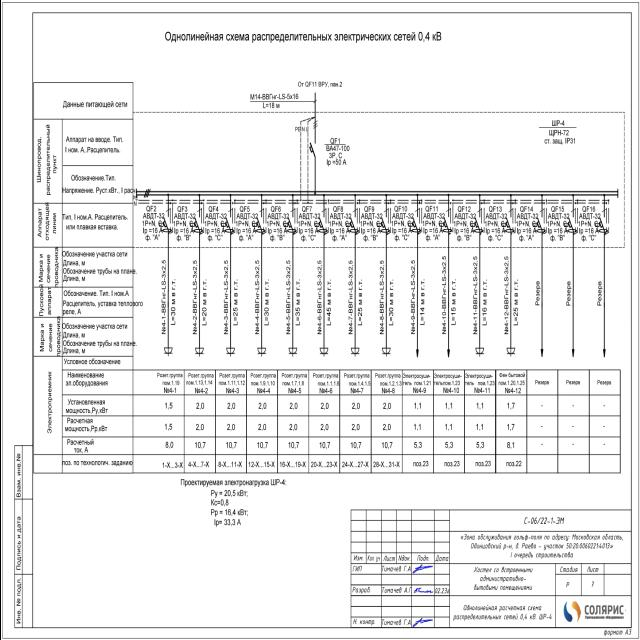-: (389, 212, 414, 245), (296, 212, 321, 244), (140, 212, 164, 245), (204, 212, 228, 245), (327, 212, 351, 245), (484, 212, 508, 245), (266, 212, 290, 245), (420, 212, 444, 244), (546, 212, 570, 244), (452, 213, 476, 245), (576, 212, 600, 244), (171, 213, 195, 245), (234, 213, 258, 245), (358, 212, 382, 244), (514, 212, 538, 244), (542, 128, 576, 146), (324, 145, 348, 167)
QF: (308, 138, 316, 158)
QFD: (469, 206, 484, 234), (314, 206, 328, 234), (220, 208, 234, 235), (500, 207, 514, 234), (532, 206, 546, 233), (562, 207, 576, 234), (282, 209, 296, 236), (252, 207, 266, 234), (407, 207, 421, 234), (158, 207, 172, 234), (438, 206, 452, 233), (346, 207, 360, 234), (594, 206, 608, 233), (376, 206, 390, 233), (190, 206, 203, 233)
